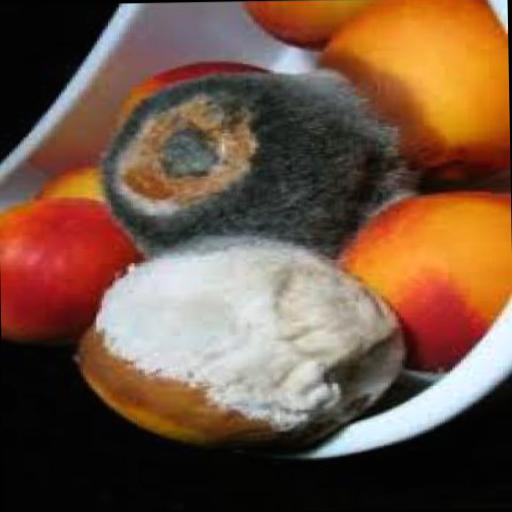biodegradable: (70, 230, 404, 460), (92, 71, 423, 266), (314, 0, 507, 188), (332, 192, 511, 376), (0, 194, 141, 349), (106, 63, 267, 140), (238, 0, 378, 52), (32, 165, 100, 208)
